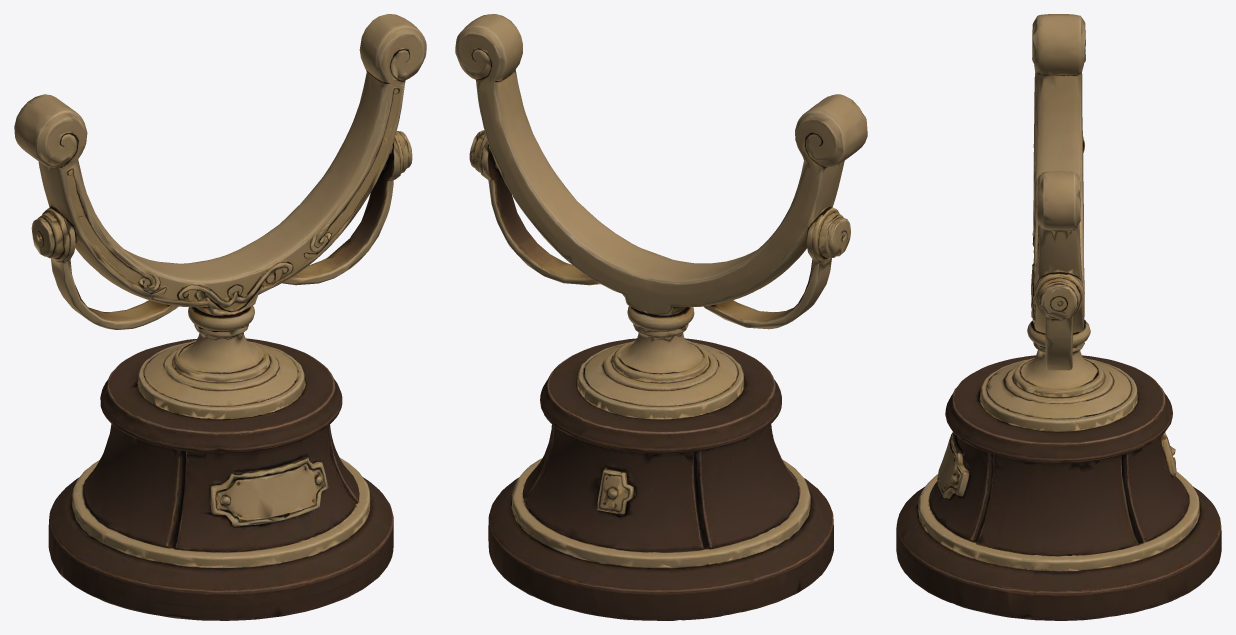
File: study_globebase_a_v1.glb
3 renders of one model, left to right at view 1: azimuth 30°, elevation 25°; view 2: azimuth 150°, elevation 25°; view 3: azimuth 270°, elevation 25°, orthographic. The views are drawn at different scales.
Parts seen in each view (by area): view 1: tripo_node_4fb95db3-4430-4fba-bfff-fd842c1f45e4; view 2: tripo_node_4fb95db3-4430-4fba-bfff-fd842c1f45e4; view 3: tripo_node_4fb95db3-4430-4fba-bfff-fd842c1f45e4.
Boxes of the visible parts, box(x1,y1,x2,y2) form: tripo_node_4fb95db3-4430-4fba-bfff-fd842c1f45e4: box(14, 14, 426, 620); tripo_node_4fb95db3-4430-4fba-bfff-fd842c1f45e4: box(455, 14, 867, 620); tripo_node_4fb95db3-4430-4fba-bfff-fd842c1f45e4: box(896, 14, 1221, 620).
Bounding box in the file's own units: 0.8321 × 0.9803 × 0.6291.
1 material, 1 textured.
